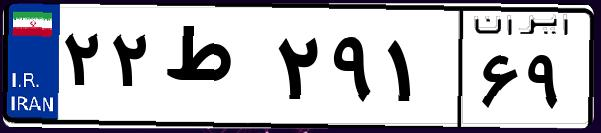1: (385, 28, 445, 110)
2: (270, 28, 330, 110), (57, 26, 110, 100), (110, 28, 158, 98)
6: (475, 38, 525, 113)
9: (330, 28, 385, 110), (525, 38, 570, 115)
ط: (158, 20, 270, 120)
